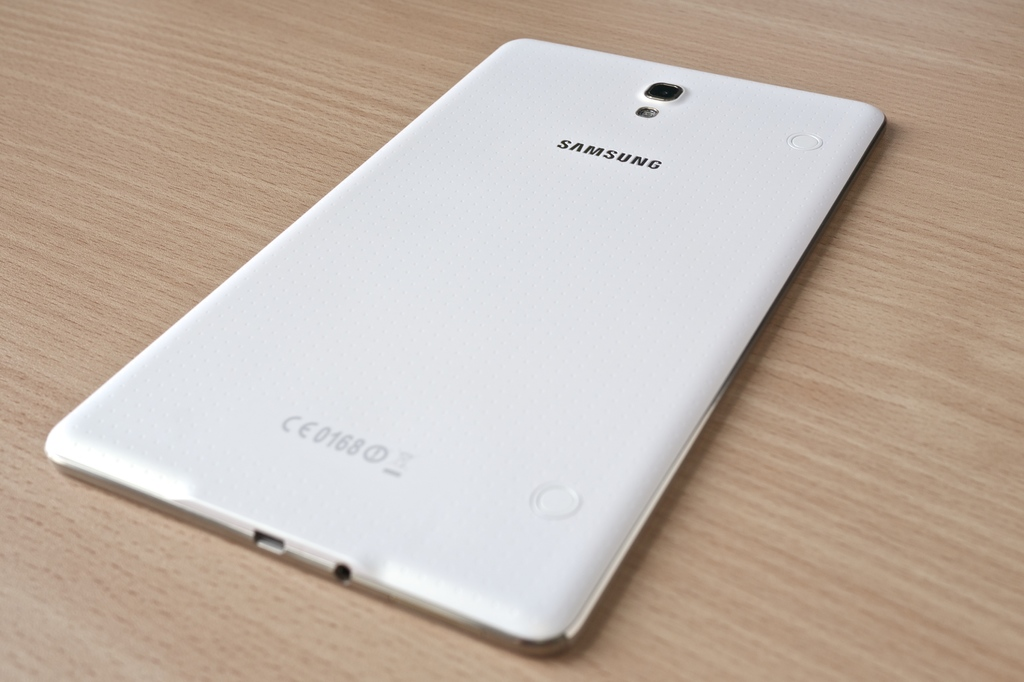mobile phone: (28, 17, 914, 630)
